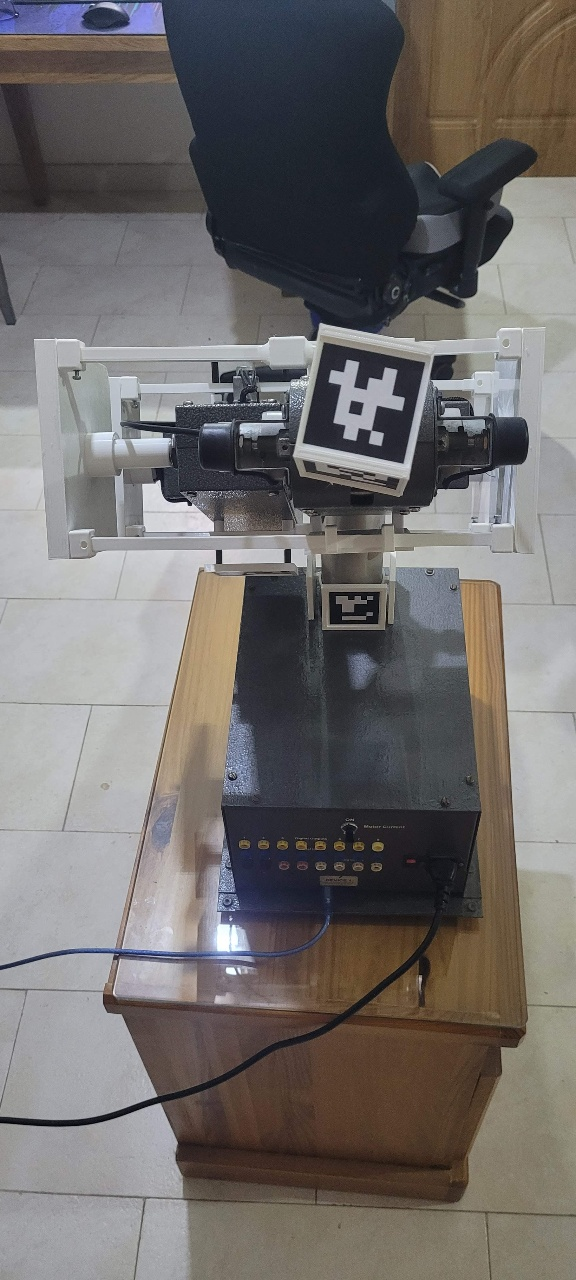Robot: (33, 327, 548, 631)
